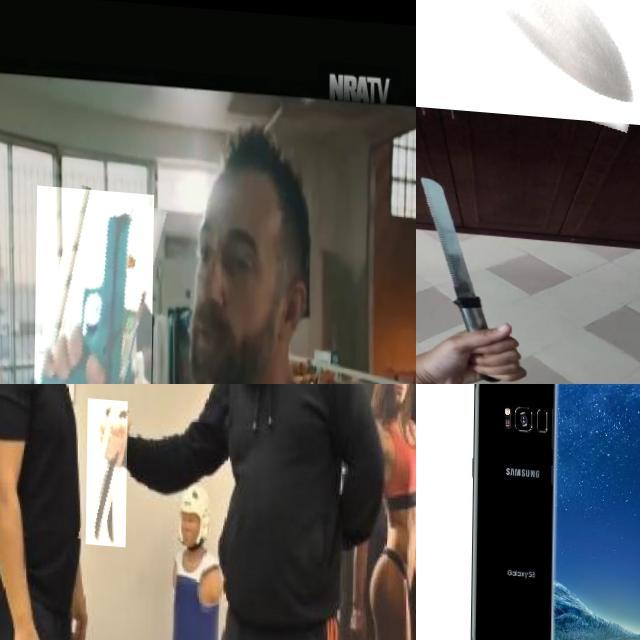-: (416, 0, 640, 149), (416, 172, 493, 320), (87, 393, 129, 542)
gun-knife-thesis - v11 Yolov5 augmented: (34, 181, 154, 384)
